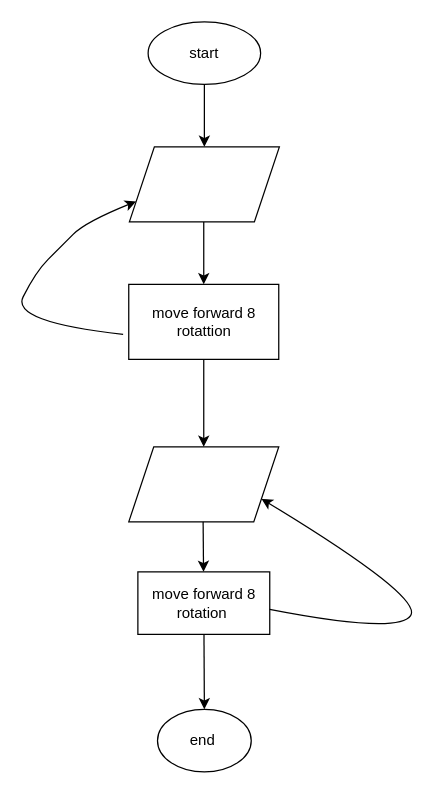
This 434x794 diagram has some shape labels left out. Each missing label, with the centre of its shape:
"motor b run -350 dgrees" goes at point (203, 184).
"motor c run -350 dgrees" goes at point (203, 484).
